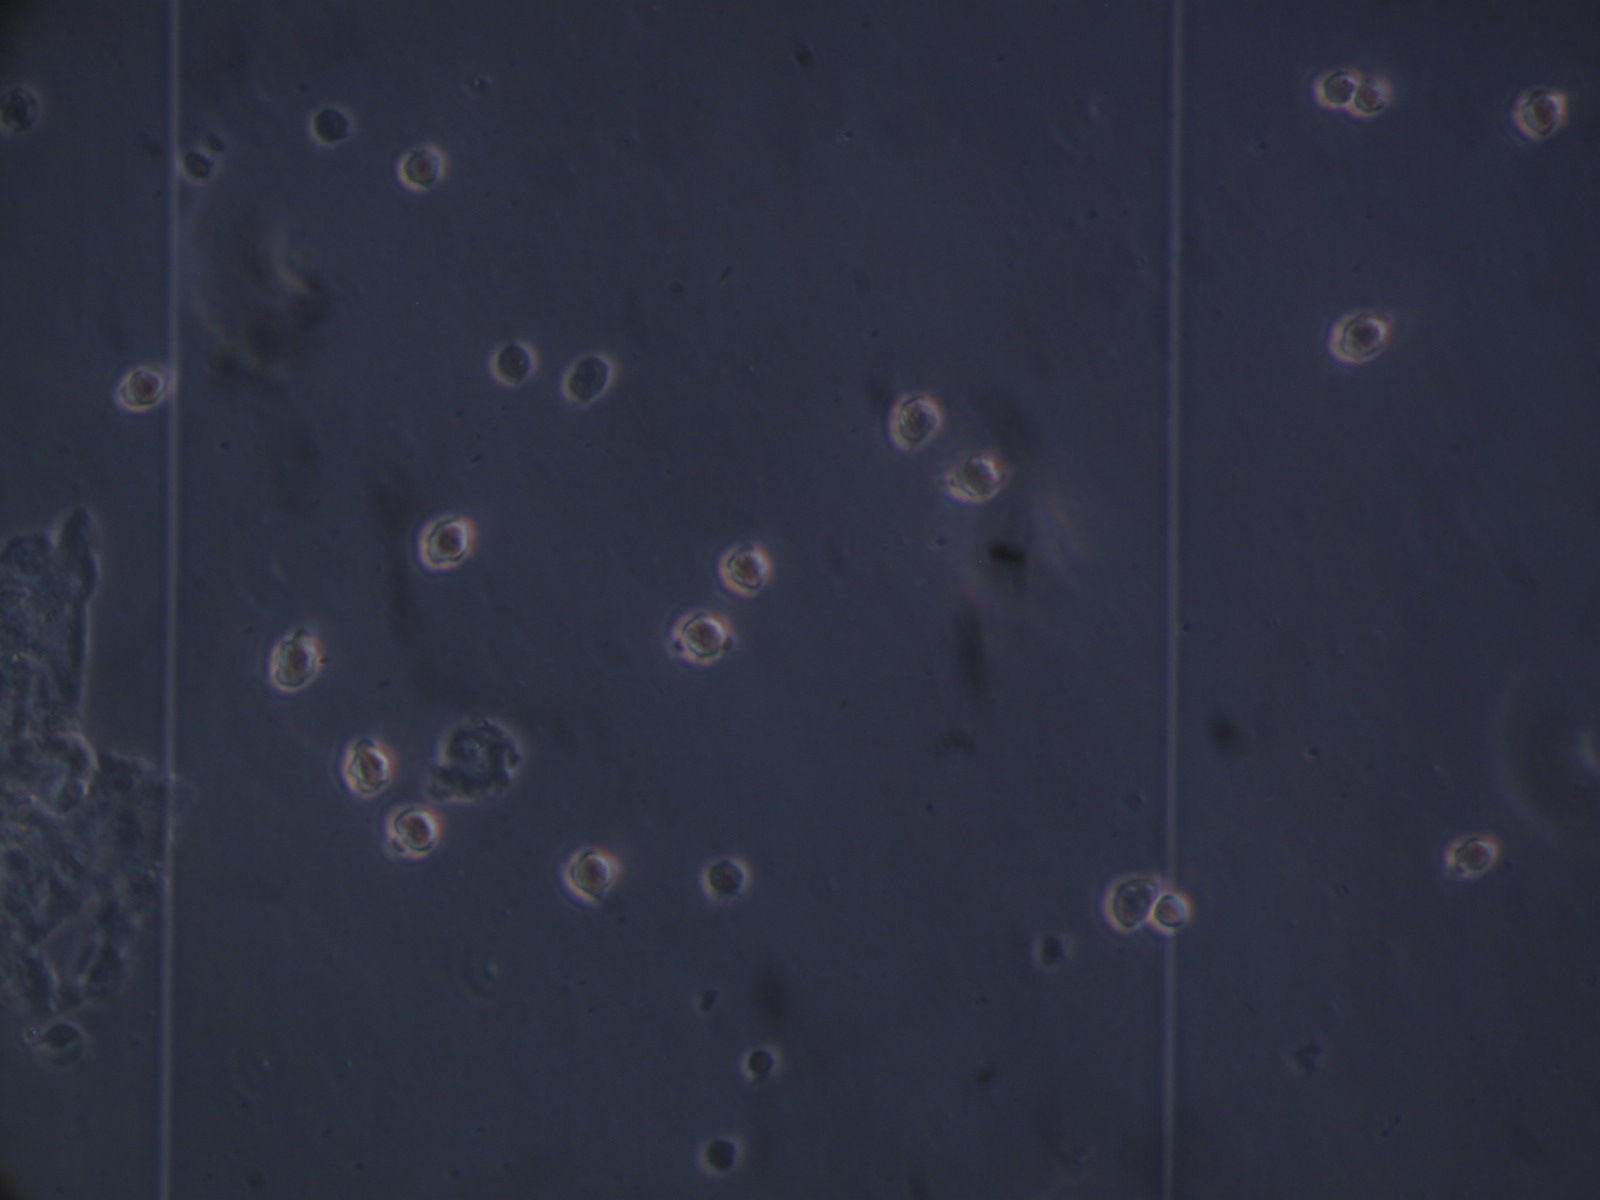hemo: (1104, 871, 1162, 935), (564, 847, 624, 905), (889, 392, 944, 454), (384, 804, 445, 858), (420, 513, 474, 571), (343, 740, 396, 799), (1329, 313, 1388, 364), (944, 454, 1005, 503), (270, 637, 323, 693), (675, 608, 728, 663), (721, 543, 774, 597), (564, 350, 614, 407), (1516, 86, 1566, 140), (300, 98, 355, 147), (399, 142, 449, 194), (117, 366, 171, 412), (699, 855, 751, 903), (489, 338, 538, 387), (1448, 833, 1499, 876), (695, 1133, 745, 1176), (1351, 76, 1395, 118), (1148, 890, 1192, 932), (740, 1045, 782, 1087), (1315, 68, 1359, 108)
